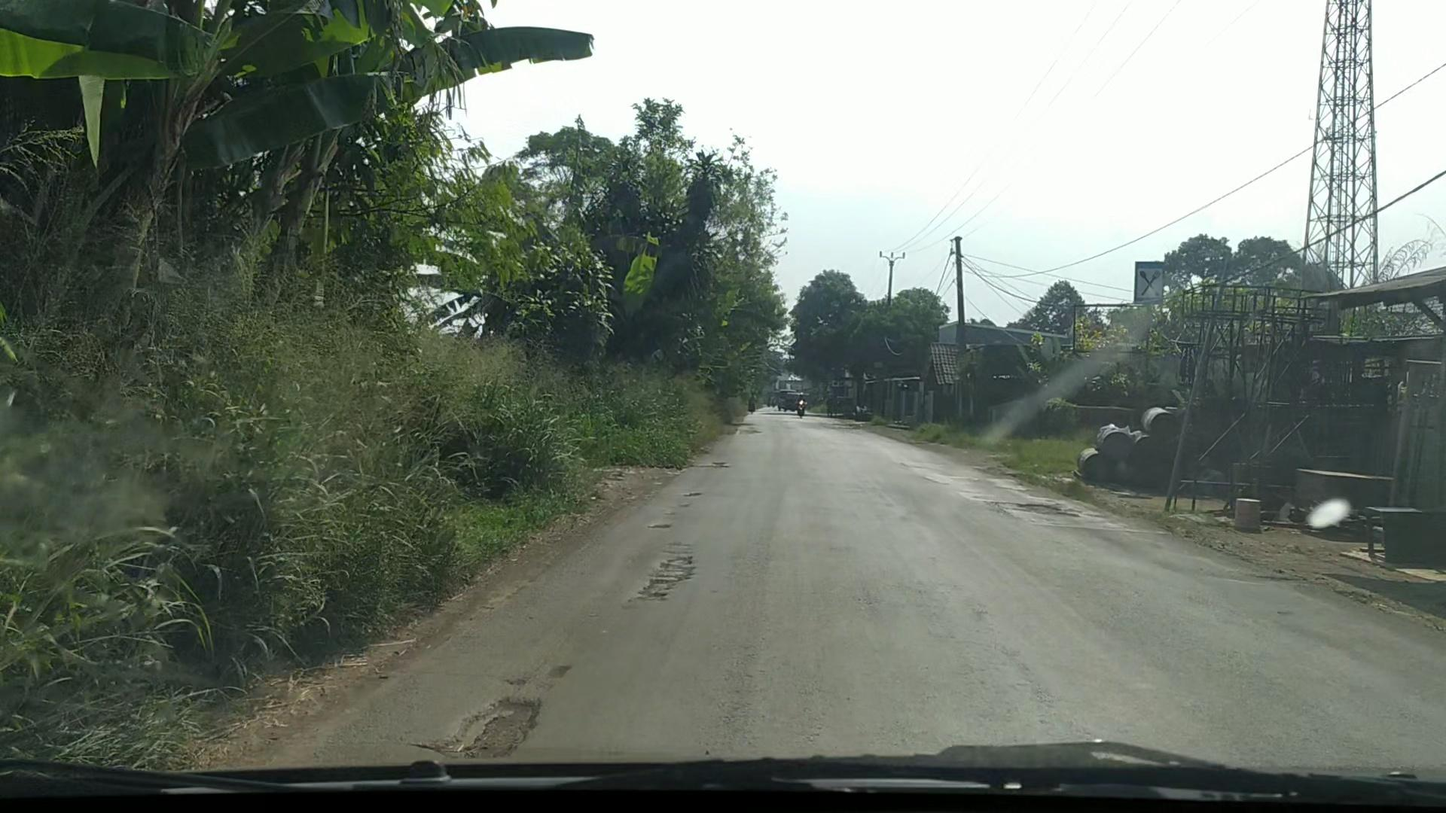pothole: (415, 693, 545, 762), (630, 551, 699, 604), (1013, 503, 1083, 517), (694, 461, 731, 469), (646, 523, 674, 530), (681, 491, 703, 497)
